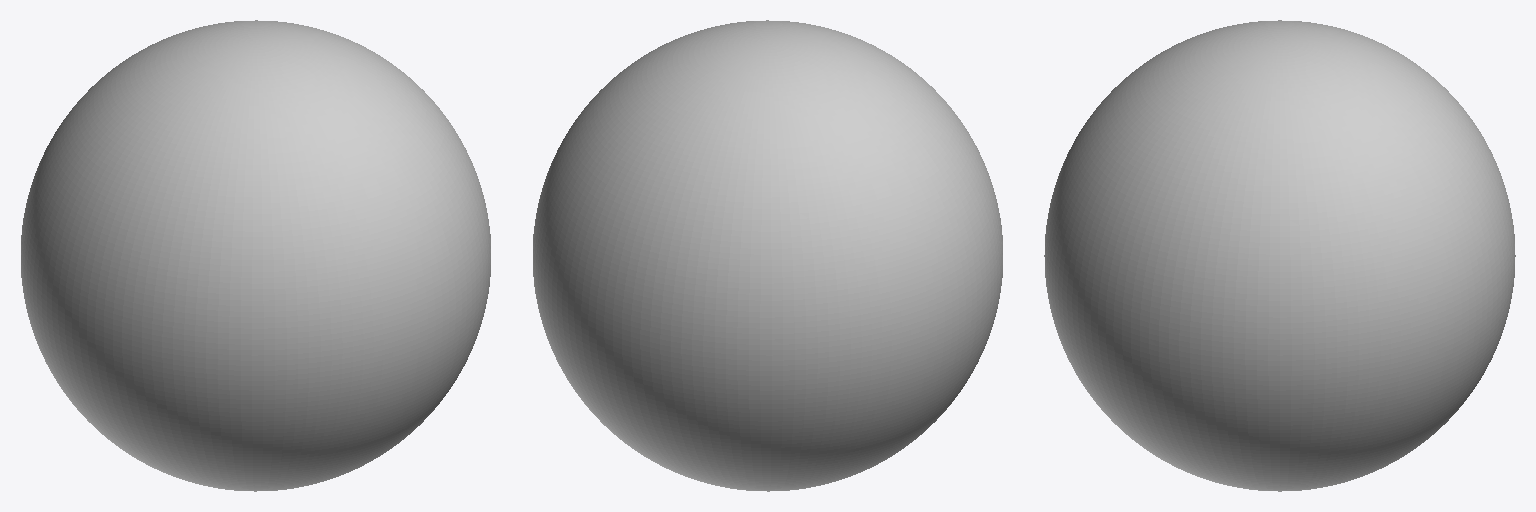
Rendered from luna.obj.
3 views of the same model, side by side, from view 1: azimuth 30°, elevation 25°; view 2: azimuth 150°, elevation 25°; view 3: azimuth 270°, elevation 25° (orthographic).
Parts seen in each view (by area): view 1: Moon_Sphere.001; view 2: Moon_Sphere.001; view 3: Moon_Sphere.001.
Part boxes in pixels (x1,y1,x2,y2): Moon_Sphere.001: (21,20,490,491); Moon_Sphere.001: (533,20,1002,491); Moon_Sphere.001: (1044,20,1515,491).
Size of the model in its own units: 2 by 2 by 2.